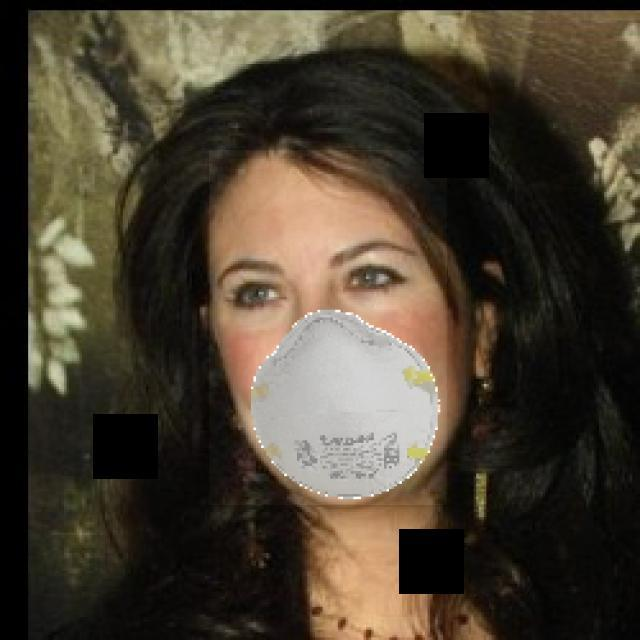n95: (209, 150, 447, 505)
